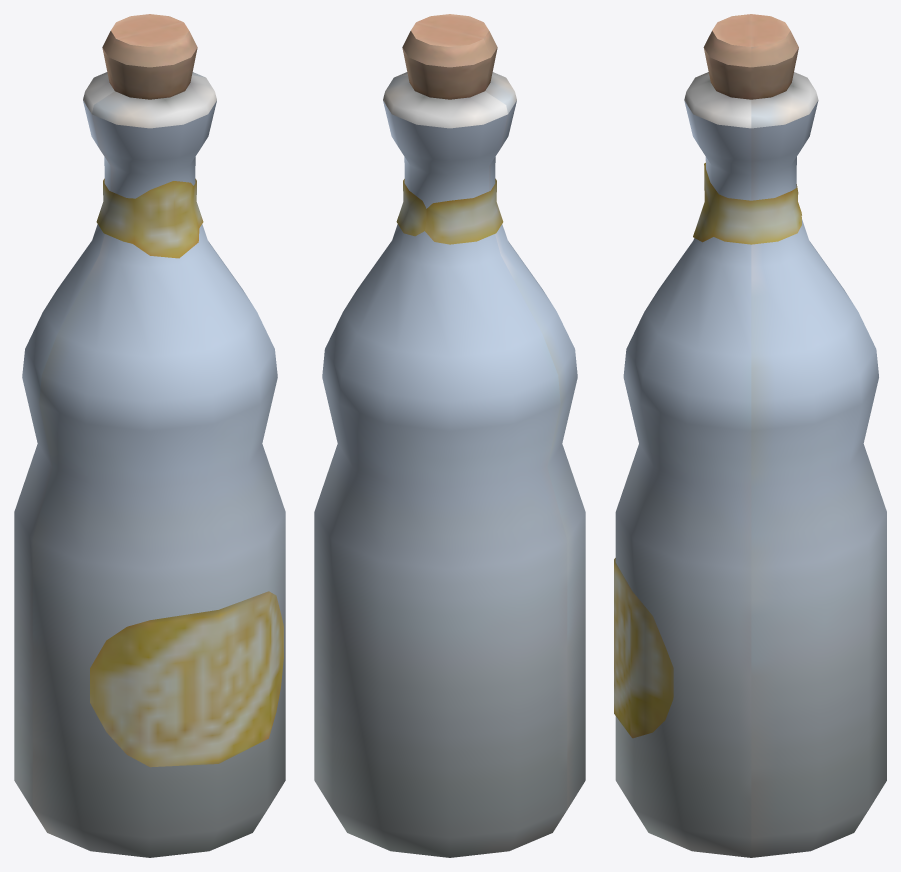
File: Homeworld_Exterior_Fd_Thing_Prop_Fengdaji_03_Vo.fbx
3 renders of one model, left to right at view 1: azimuth 30°, elevation 25°; view 2: azimuth 150°, elevation 25°; view 3: azimuth 270°, elevation 25°, orthographic.
Visible parts, largest first — view 1: Homeworld_Exterior_Fd_Thing_Prop_Fengdaji_03_Vo; view 2: Homeworld_Exterior_Fd_Thing_Prop_Fengdaji_03_Vo; view 3: Homeworld_Exterior_Fd_Thing_Prop_Fengdaji_03_Vo.
Boxes of the visible parts, <box> form: Homeworld_Exterior_Fd_Thing_Prop_Fengdaji_03_Vo: <box>14,14,285,857</box>; Homeworld_Exterior_Fd_Thing_Prop_Fengdaji_03_Vo: <box>314,14,585,857</box>; Homeworld_Exterior_Fd_Thing_Prop_Fengdaji_03_Vo: <box>614,14,886,857</box>.
Size of what is drawn, in the model's own units: 0.108 by 0.3414 by 0.1086.
